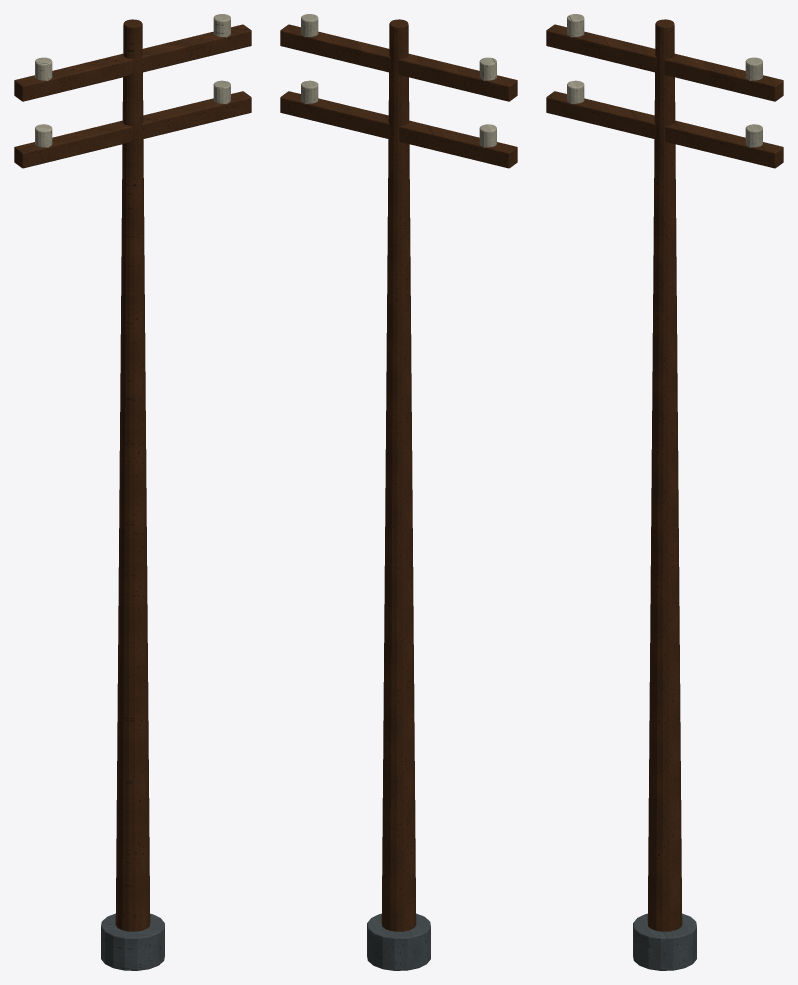
File: PROP-2112E0AB2672_lod0.glb
The picture shows the model from 3 angles, left to right: view 1: azimuth 30°, elevation 25°; view 2: azimuth 150°, elevation 25°; view 3: azimuth 330°, elevation 25°; orthographic projection.
Visible parts, largest first — view 1: pole.004, pole_crossarm, pole_base.004, insulators; view 2: pole.004, pole_crossarm, pole_base.004, insulators; view 3: pole.004, pole_crossarm, pole_base.004, insulators.
Boxes of the visible parts, box(x1,y1,x2,y2) form: pole.004: box(115, 19, 150, 931); pole_crossarm: box(14, 24, 251, 168); pole_base.004: box(101, 913, 164, 970); insulators: box(35, 14, 230, 147); pole.004: box(381, 19, 416, 931); pole_crossarm: box(280, 24, 517, 168); pole_base.004: box(367, 913, 430, 970); insulators: box(301, 14, 496, 147); pole.004: box(647, 19, 682, 931); pole_crossarm: box(546, 24, 783, 168); pole_base.004: box(633, 913, 696, 970); insulators: box(567, 14, 762, 147).
Bounding box in the file's own units: 1.8 × 7 × 0.44.
Materials: 3 (3 with a texture image).
